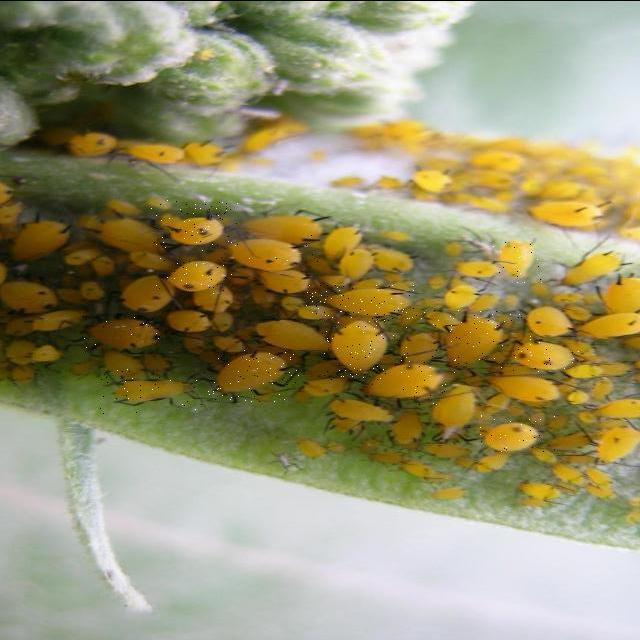aphid: (432, 309, 532, 372), (322, 318, 408, 380), (208, 349, 300, 401), (100, 368, 206, 413), (151, 198, 238, 251), (304, 284, 425, 319), (222, 234, 325, 274), (368, 358, 450, 404), (478, 414, 558, 456), (82, 313, 166, 350), (156, 256, 236, 293), (513, 300, 585, 338), (240, 214, 324, 246), (9, 219, 71, 262), (506, 336, 580, 372), (254, 318, 332, 352), (492, 234, 542, 283), (99, 218, 163, 254), (120, 274, 176, 314), (488, 374, 560, 405), (563, 251, 624, 287), (527, 200, 605, 228), (430, 389, 477, 433), (0, 280, 59, 315), (593, 424, 640, 463), (577, 311, 640, 340), (329, 396, 391, 424), (602, 276, 640, 316), (258, 268, 311, 296), (123, 142, 186, 165), (68, 131, 118, 158), (191, 282, 233, 313), (101, 350, 147, 378), (28, 310, 80, 334), (368, 247, 414, 274), (339, 248, 374, 282), (472, 150, 526, 172), (593, 397, 640, 421), (183, 141, 228, 166), (167, 310, 213, 334), (390, 412, 422, 445), (517, 481, 562, 504), (301, 376, 347, 398), (412, 169, 452, 194), (444, 285, 481, 310), (455, 260, 500, 279), (422, 442, 469, 460), (5, 339, 39, 363), (552, 463, 587, 485), (64, 248, 101, 267), (297, 438, 328, 459)
